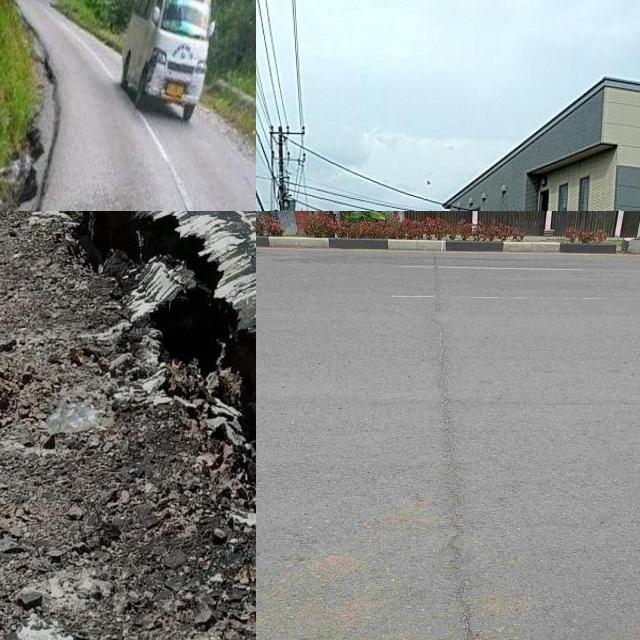Memanjang: (416, 245, 514, 640)
Pinggir: (15, 211, 256, 510)
